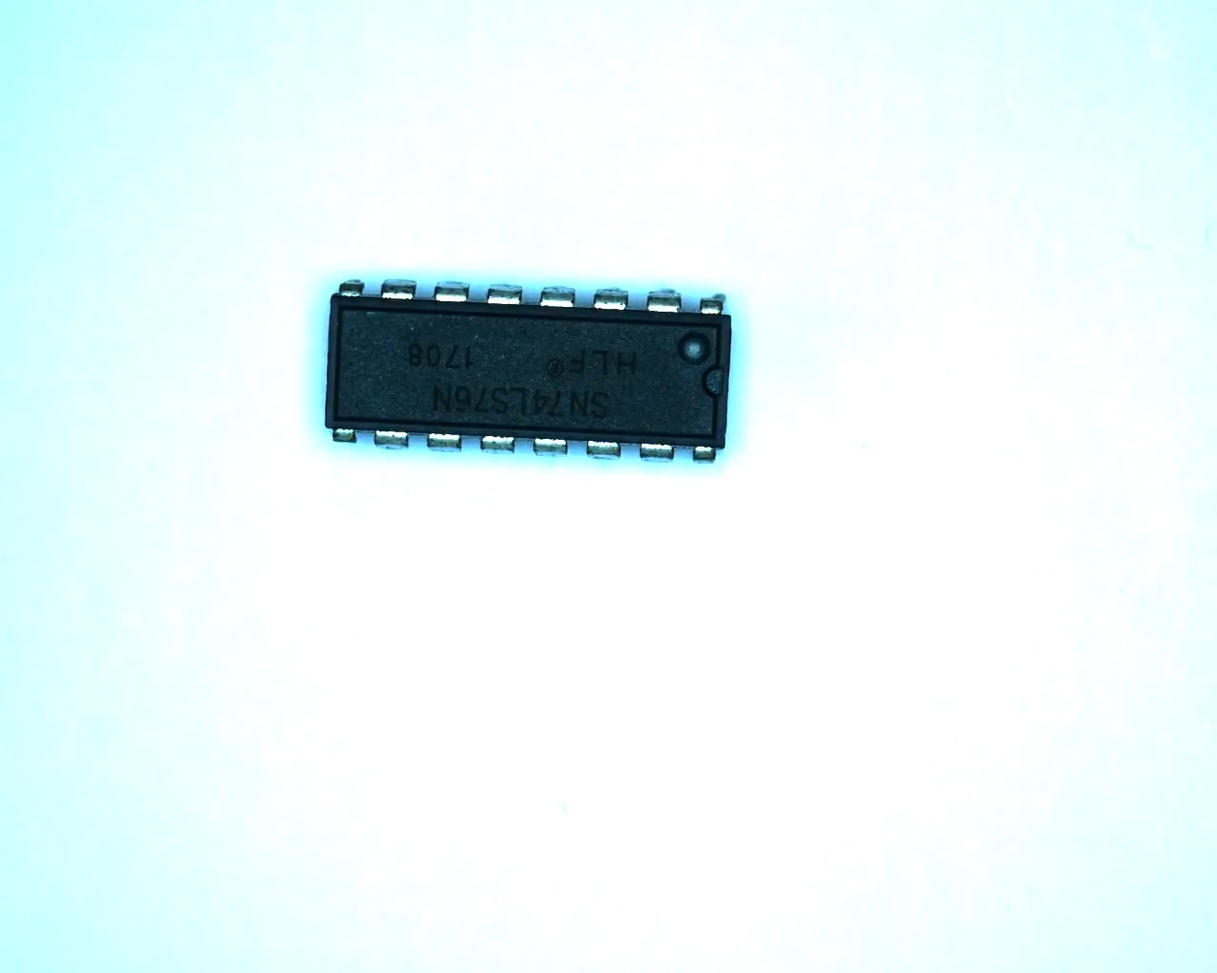IC: (317, 275, 741, 468)
notch: (699, 361, 731, 406)
